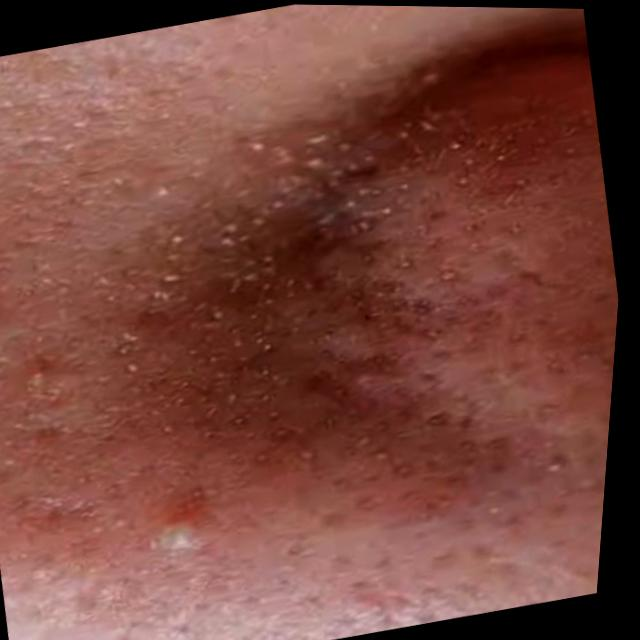whitehead: (30, 33, 584, 464)
